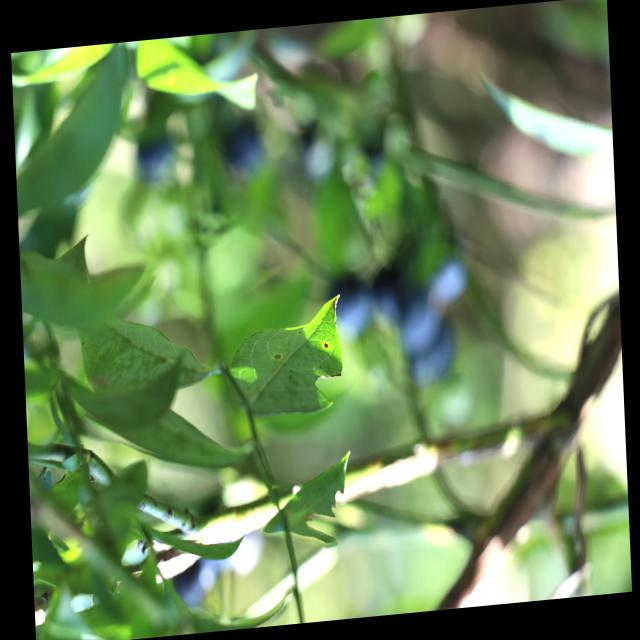blueberry: (325, 277, 372, 336), (426, 246, 472, 304), (221, 120, 267, 175), (400, 296, 440, 346), (138, 138, 179, 185)
